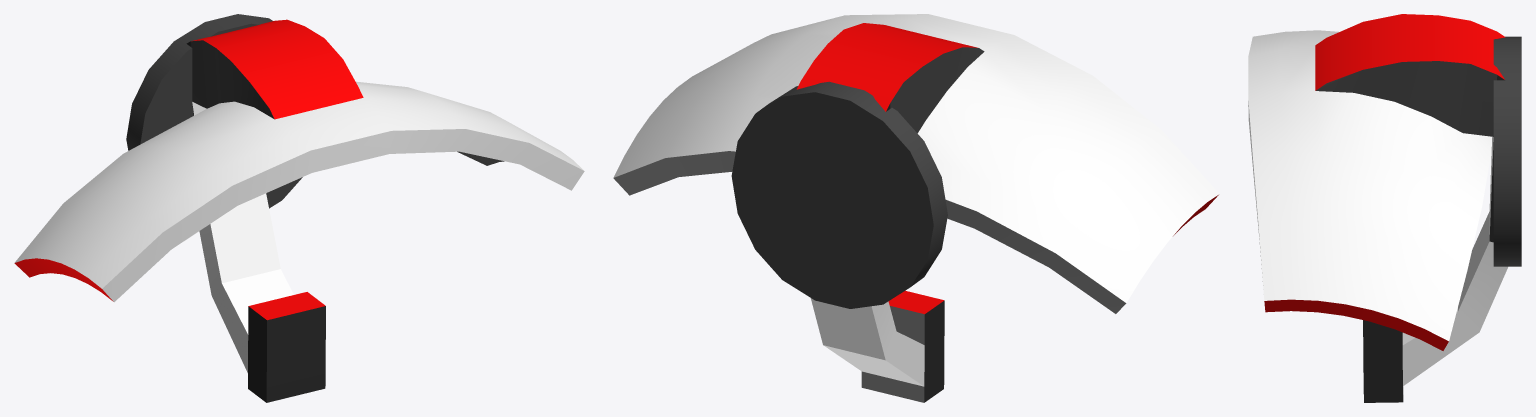
Rendered from radar.obj.
3 renders of one model, left to right at view 1: azimuth 30°, elevation 25°; view 2: azimuth 150°, elevation 25°; view 3: azimuth 270°, elevation 25°, orthographic. The views are drawn at different scales.
Parts seen in each view (by area): view 1: Box002, Cylinder033; view 2: Box002, Cylinder033; view 3: Box002, Cylinder033.
Boxes of the visible parts, <box> form: Box002: <box>14,19,584,402</box>; Cylinder033: <box>126,14,302,208</box>; Box002: <box>613,14,1219,402</box>; Cylinder033: <box>731,81,947,308</box>; Box002: <box>1248,14,1507,402</box>; Cylinder033: <box>1493,36,1521,266</box>.
Bounding box in the file's own units: 1.69 × 1.1 × 0.7813.
